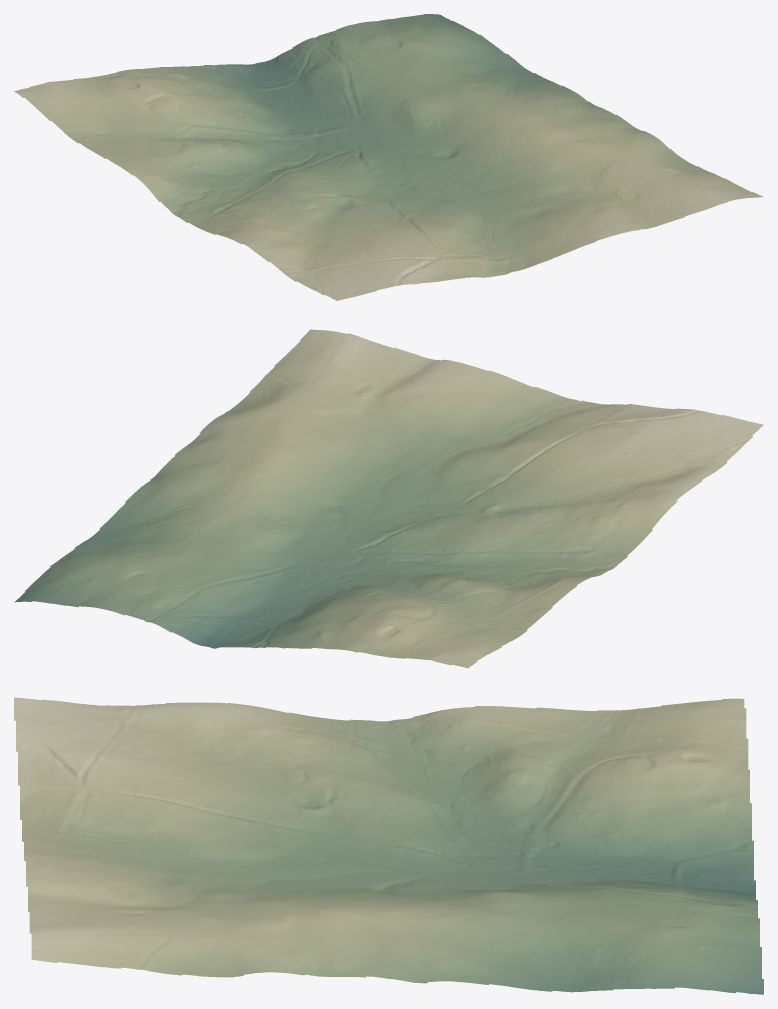
File: linhaven-terrain.glb
3 renders of one model, top to bottom at view 1: azimuth 30°, elevation 25°; view 2: azimuth 150°, elevation 25°; view 3: azimuth 270°, elevation 25°, orthographic. The views are drawn at different scales.
Visible parts, largest first — view 1: Linhaven ground · metres; view 2: Linhaven ground · metres; view 3: Linhaven ground · metres.
Part boxes in pixels (<box>): Linhaven ground · metres: <box>14,14,763,300</box>; Linhaven ground · metres: <box>14,329,763,668</box>; Linhaven ground · metres: <box>14,697,763,994</box>.
Size of the model in its own units: 630 by 61.84 by 758.
